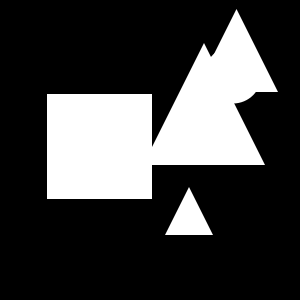circle: (47, 94, 152, 199)
rectangle: (204, 46, 262, 103)
triangle: (143, 43, 265, 165), (195, 9, 278, 92), (165, 187, 213, 235)
